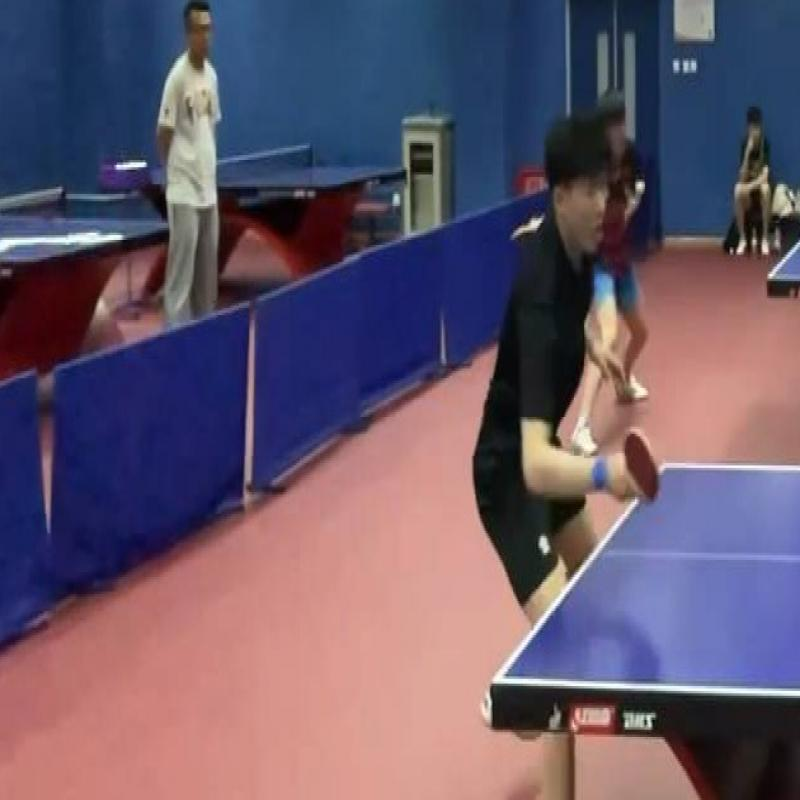bats: (618, 407, 670, 507)
